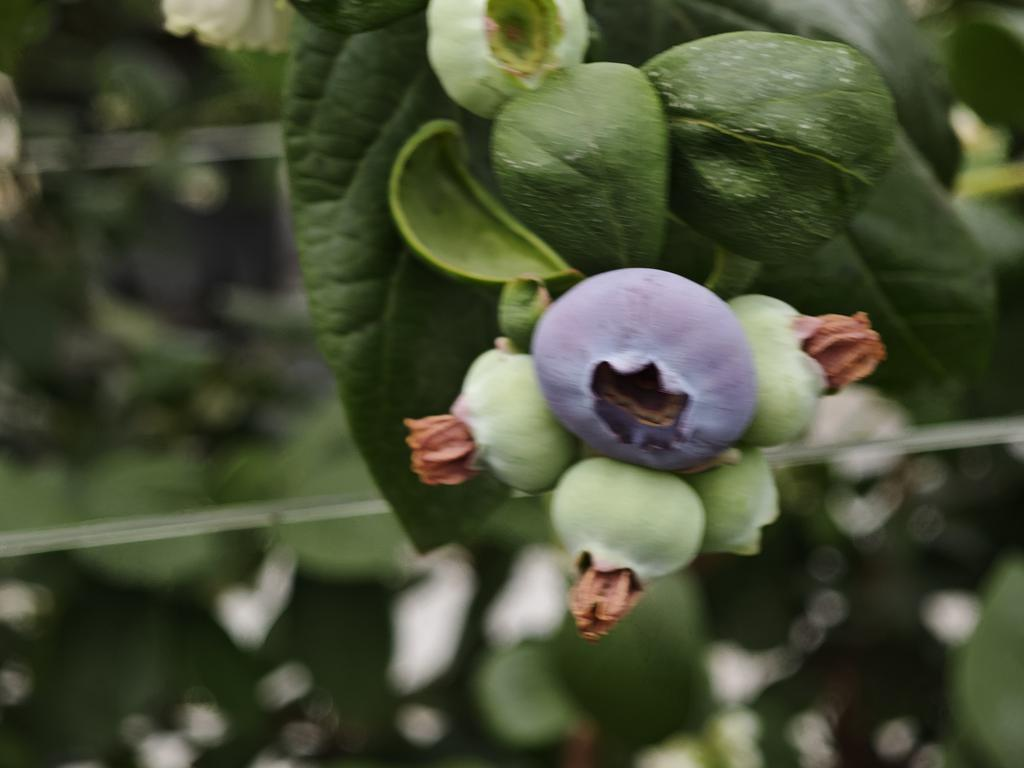RipeBlueBerry: (527, 261, 763, 473)
